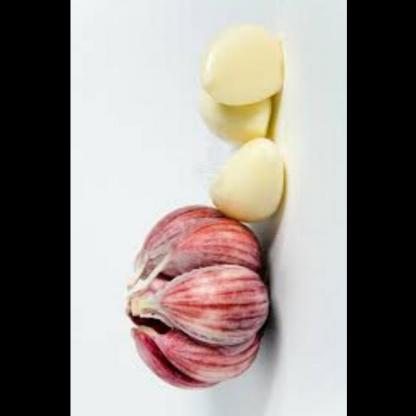garlic: (112, 198, 274, 388), (194, 21, 290, 108), (201, 136, 289, 229), (191, 86, 280, 145)
